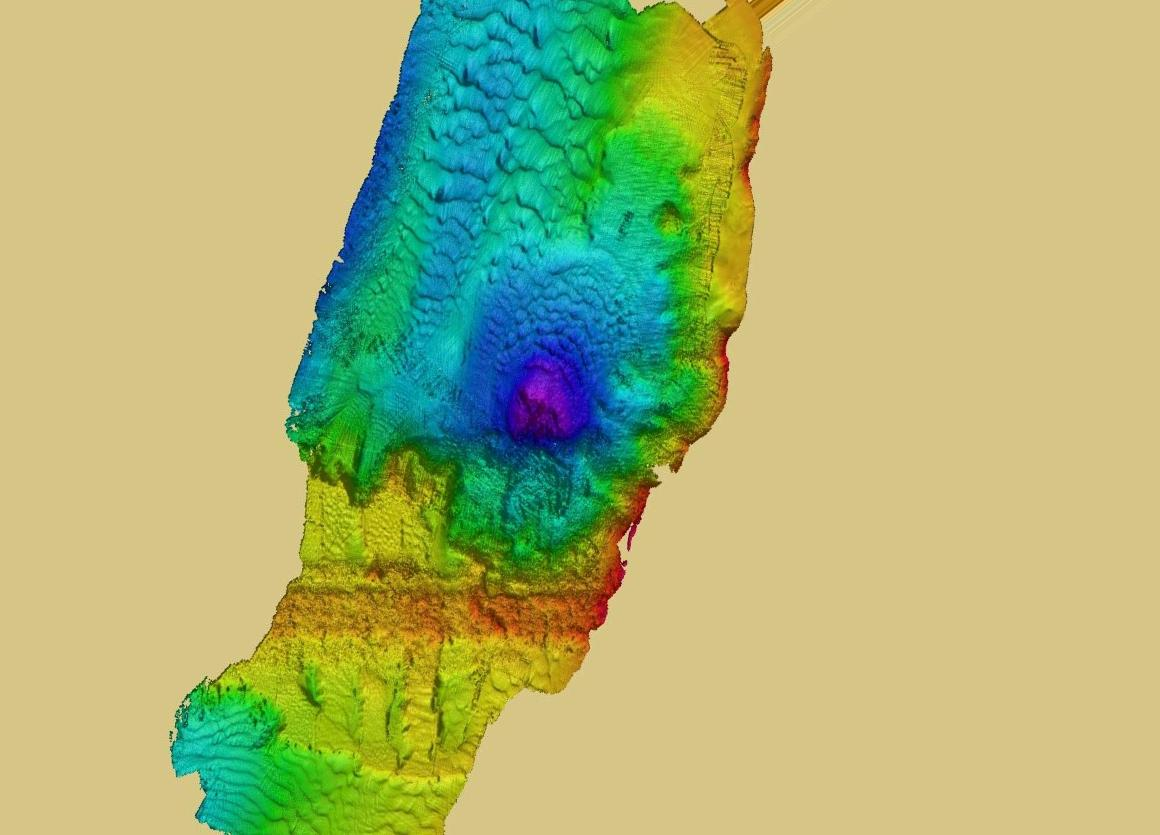Dune: (446, 15, 590, 241), (503, 268, 626, 329), (206, 734, 279, 815), (295, 768, 350, 833), (410, 243, 451, 327), (382, 783, 451, 825)
Scarp: (662, 233, 751, 503)
Scour pit: (479, 336, 598, 445)
Submerged dike: (272, 573, 617, 653)
